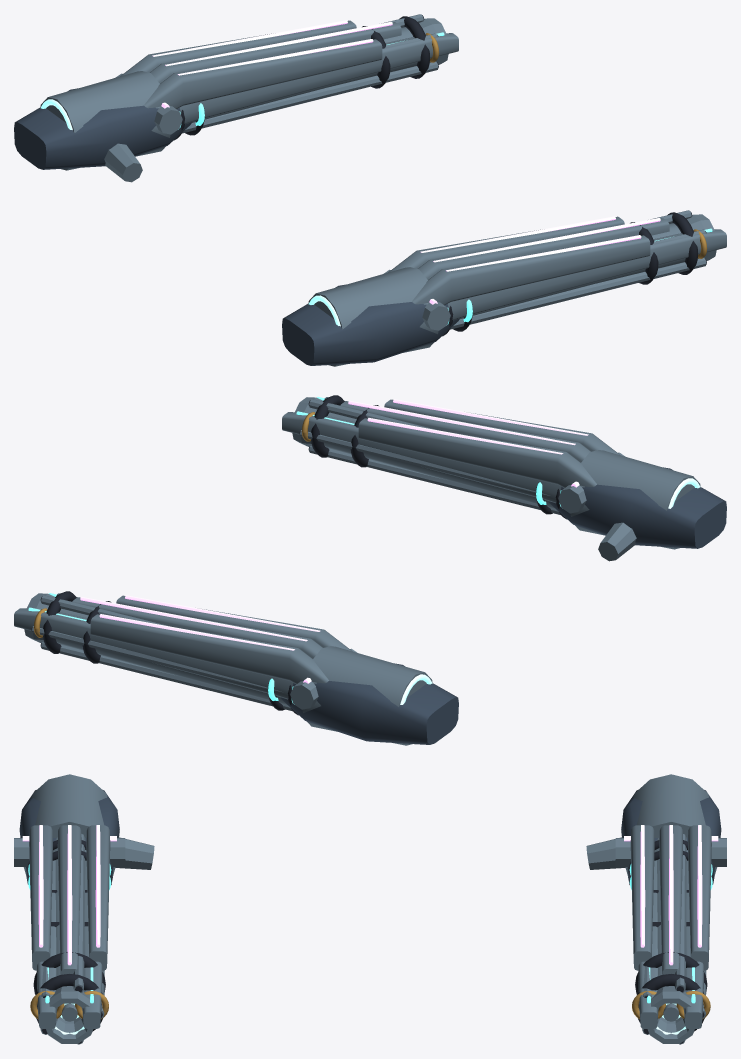
Rendered from mount.glb.
3 views of the same model, one above another, from view 1: azimuth 30°, elevation 25°; view 2: azimuth 150°, elevation 25°; view 3: azimuth 270°, elevation 25° (orthographic). The views are drawn at different scales.
Visible parts, largest first — view 1: m_array Brushed fitting edges, m_heavy Fitting gunmetal, m_rotary Brushed fitting edges, m_siege Brushed fitting edges, m_array m_array emitter, m_heavy Brushed fitting edges, m_rotary Machined graphite; view 2: m_array Brushed fitting edges, m_heavy Fitting gunmetal, m_rotary Brushed fitting edges, m_siege Brushed fitting edges, m_heavy Brushed fitting edges, m_array m_array emitter, m_rotary Machined graphite, m_siege m_siege emitter; view 3: m_array Brushed fitting edges, m_rotary Brushed fitting edges, m_heavy Brushed fitting edges, m_siege Brushed fitting edges, m_array m_array emitter, m_heavy Fitting gunmetal, m_rotary Machined graphite, m_siege Champagne gold edging, m_siege m_siege emitter.
Part boxes in pixels (x1=…): m_array Brushed fitting edges: x1=115, y1=20, x2=669, y2=330; m_heavy Fitting gunmetal: x1=14, y1=88, x2=459, y2=365; m_rotary Brushed fitting edges: x1=40, y1=14, x2=706, y2=366; m_siege Brushed fitting edges: x1=179, y1=33, x2=726, y2=320; m_array m_array emitter: x1=152, y1=20, x2=660, y2=304; m_heavy Brushed fitting edges: x1=104, y1=18, x2=716, y2=318; m_rotary Machined graphite: x1=362, y1=15, x2=706, y2=284; m_array Brushed fitting edges: x1=72, y1=399, x2=625, y2=709; m_heavy Fitting gunmetal: x1=280, y1=467, x2=726, y2=744; m_rotary Brushed fitting edges: x1=32, y1=397, x2=700, y2=745; m_siege Brushed fitting edges: x1=14, y1=412, x2=561, y2=699; m_heavy Brushed fitting edges: x1=24, y1=397, x2=636, y2=705; m_array m_array emitter: x1=80, y1=399, x2=588, y2=683; m_rotary Machined graphite: x1=31, y1=395, x2=378, y2=663; m_siege m_siege emitter: x1=28, y1=397, x2=561, y2=704; m_array Brushed fitting edges: x1=14, y1=825, x2=726, y2=974; m_rotary Brushed fitting edges: x1=23, y1=774, x2=717, y2=1044; m_heavy Brushed fitting edges: x1=46, y1=837, x2=694, y2=1043; m_siege Brushed fitting edges: x1=36, y1=860, x2=704, y2=1028; m_array m_array emitter: x1=22, y1=825, x2=718, y2=965; m_heavy Fitting gunmetal: x1=19, y1=789, x2=721, y2=884; m_rotary Machined graphite: x1=33, y1=952, x2=707, y2=1043; m_siege Champagne gold edging: x1=30, y1=991, x2=710, y2=1019; m_siege m_siege emitter: x1=28, y1=864, x2=712, y2=1003.
Size of the model in its own units: 21.46 by 3.95 by 28.45.
